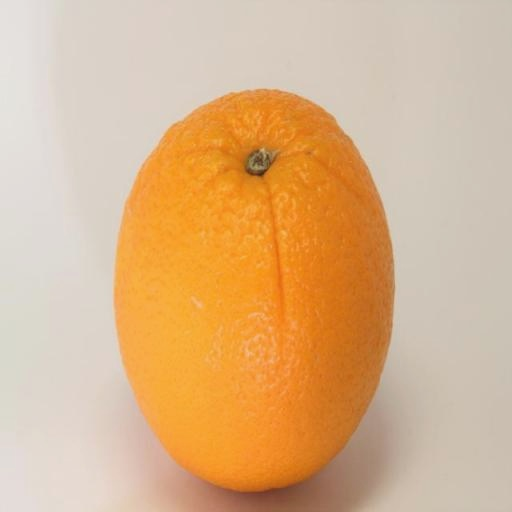fruit: (115, 90, 392, 490)
